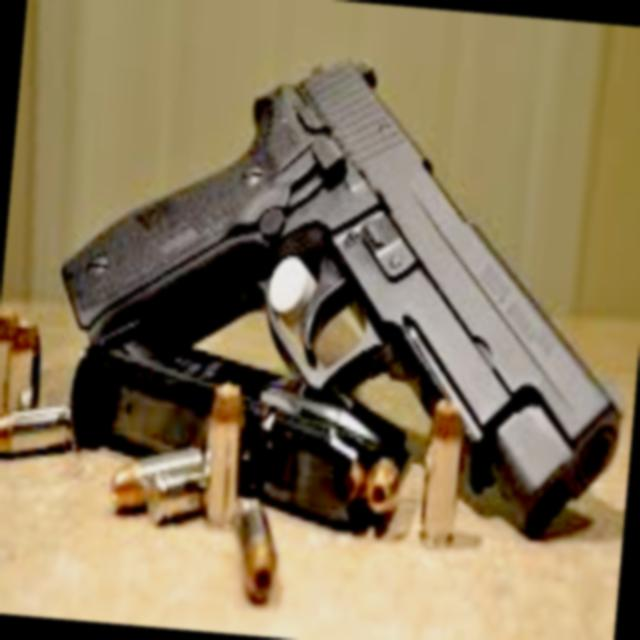semi automatic: (26, 30, 640, 640)
